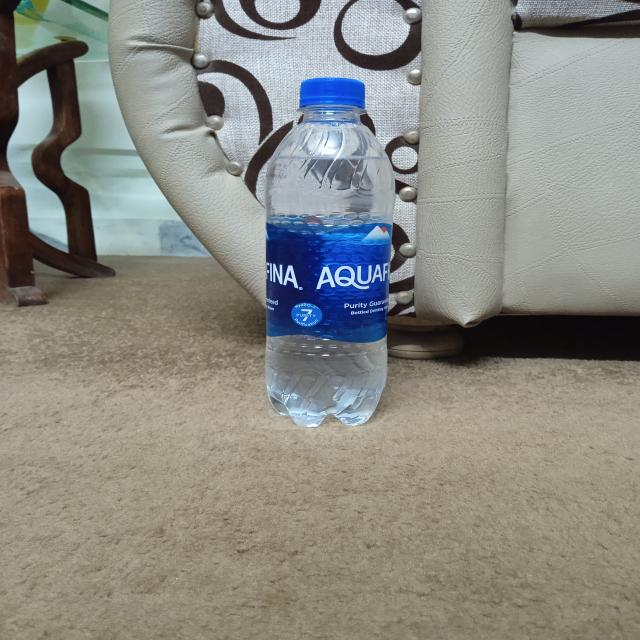Plastic: (255, 70, 398, 428)
